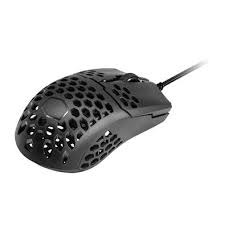mouse: (18, 63, 174, 177)
